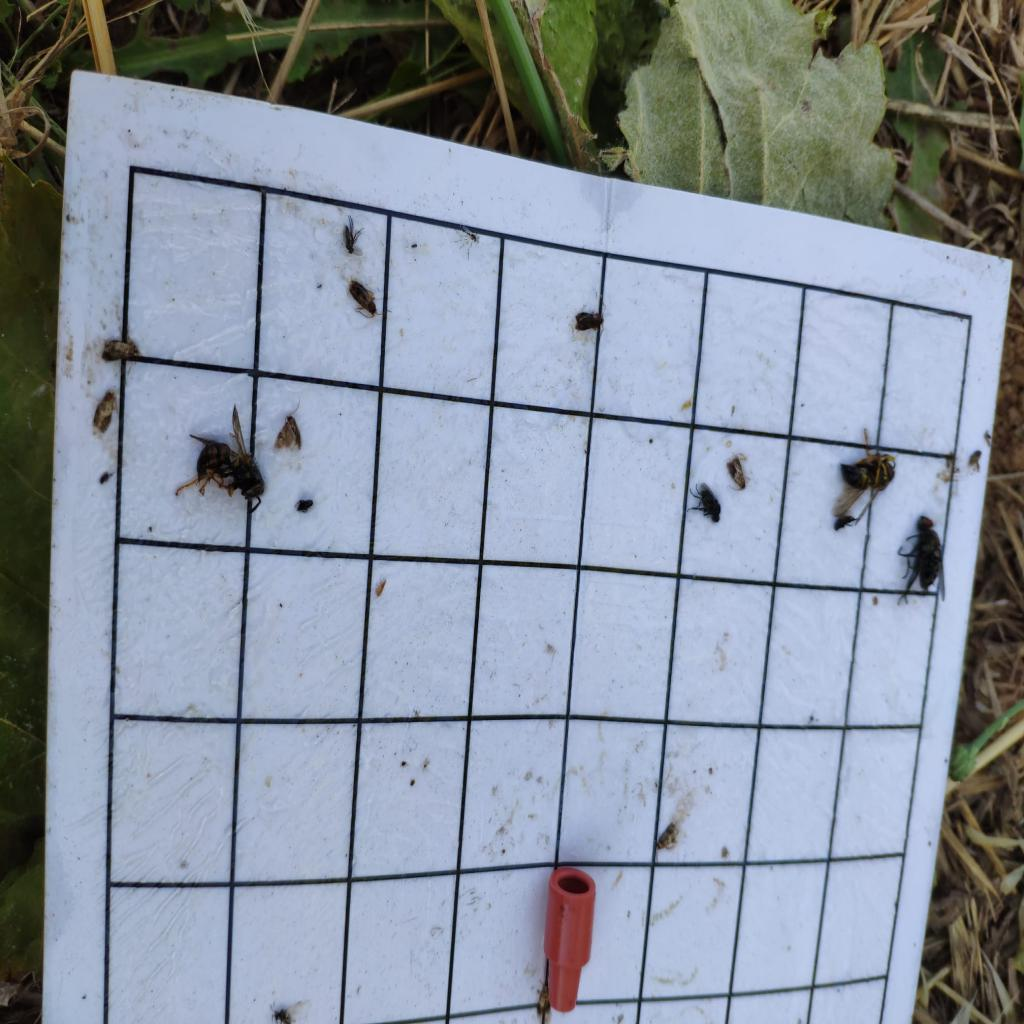grape_moth: (102, 324, 142, 366), (274, 398, 304, 451), (90, 385, 120, 437), (655, 820, 681, 862), (726, 454, 748, 492), (536, 976, 554, 1016)
